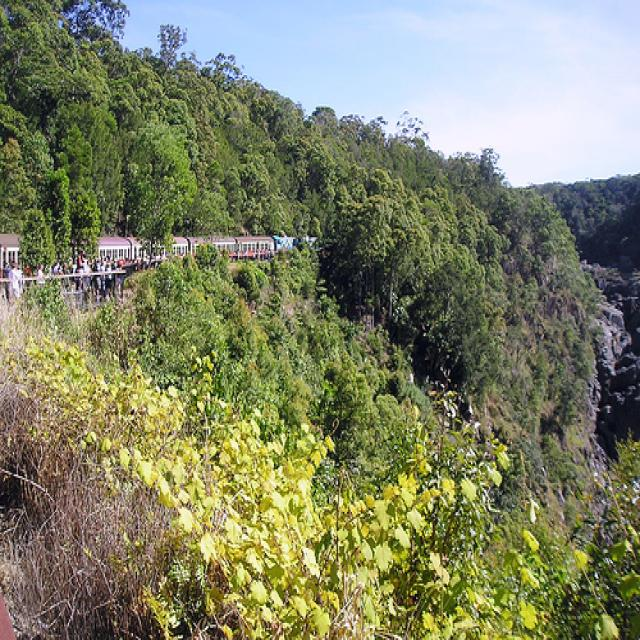train: (1, 235, 321, 284)
